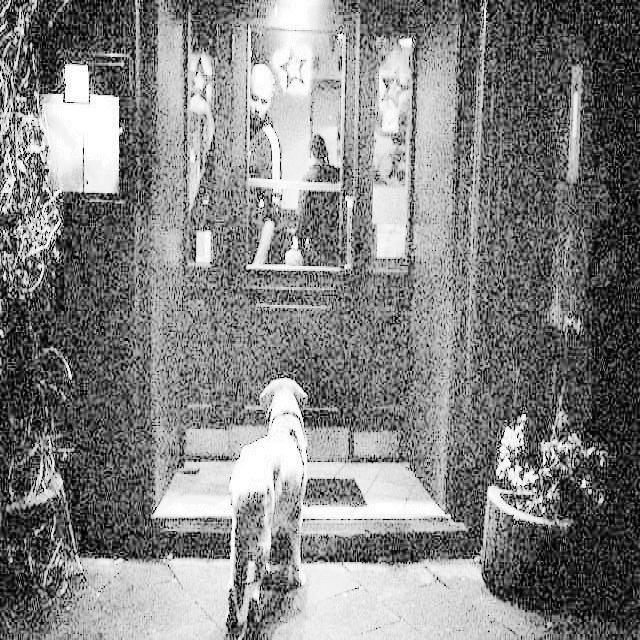Dog: (223, 369, 342, 620)
